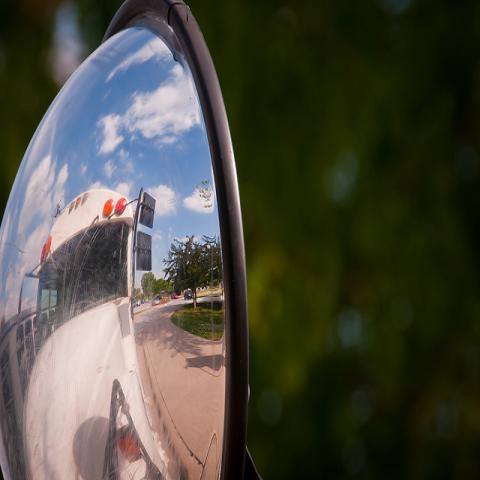bus: (14, 186, 168, 474)
